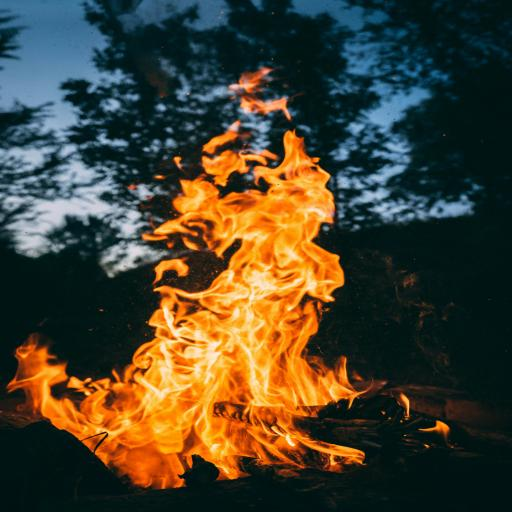campfire: (12, 35, 512, 511)
